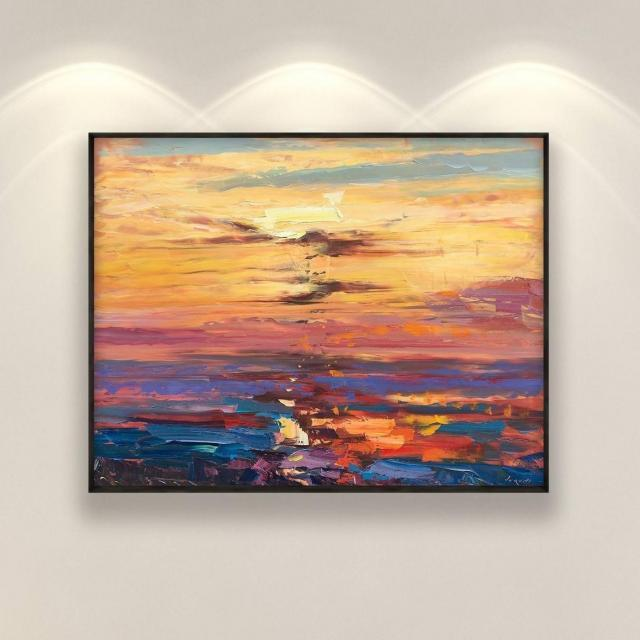painting: (88, 133, 550, 493)
